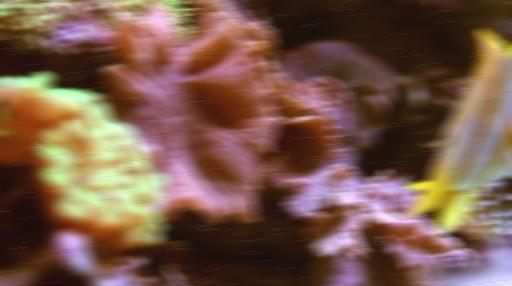Fish: (408, 28, 511, 233)
